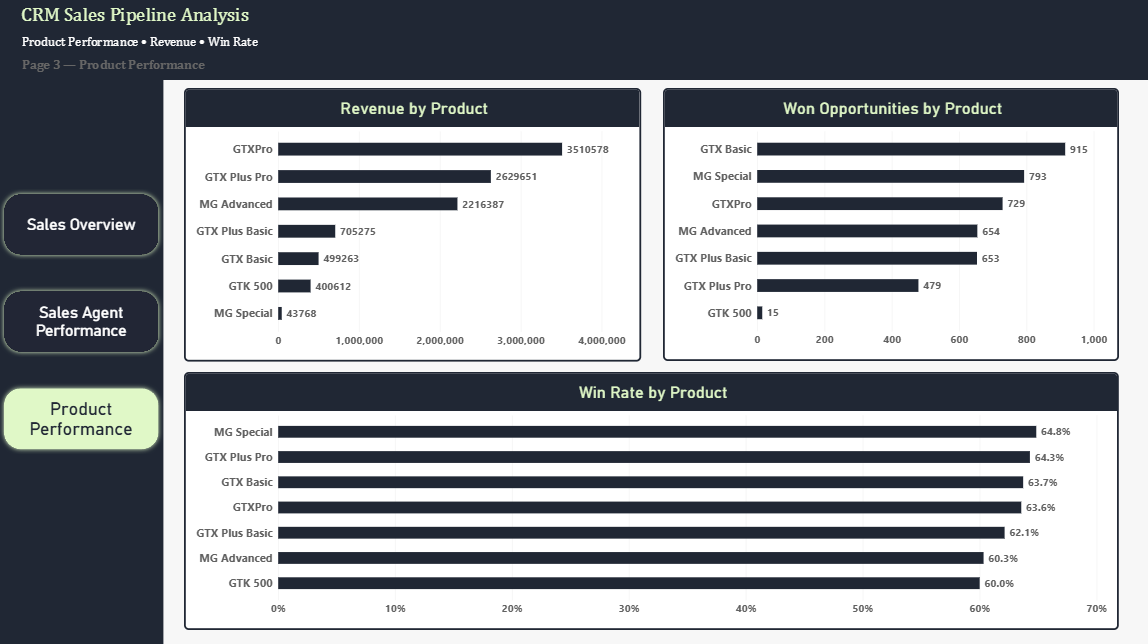

What the dashboard file says about the page in this screenshot:
{"tool":"powerbi","page":{"name":"Product Performance","canvas":[1920,1080],"ordinal":2},"visuals":[{"type":"shape","box":[0,0,1920,136.7],"z":0},{"type":"shape","box":[0,102,274,978],"z":1000},{"type":"clusteredBarChart","title":"Revenue by Product","fields":{"Category":["sales_pipeline.product"],"Y":["sales_pipeline.Total Revenue"]},"box":[308,149.8,762,456],"z":4000},{"type":"clusteredBarChart","title":"Won Opportunities by Product","fields":{"Category":["sales_pipeline.product"],"Y":["sales_pipeline.Won Opportunities"]},"box":[1106,150.2,760,455],"z":5000},{"type":"clusteredBarChart","title":"Win Rate by Product","fields":{"Category":["sales_pipeline.product"],"Y":["sales_pipeline.Percentage Of Won"]},"box":[308,624,1558,430],"z":6000},{"type":"pageNavigator","box":[0,318,274,444],"z":7000},{"type":"textbox","box":[20,8.9,412.8,41.1],"z":7001},{"type":"textbox","box":[37.5,60,508.3,38.3],"z":7002},{"type":"textbox","box":[38.6,98.6,508.3,38.3],"z":7003}]}

Visuals, with their boxes in screenshot pixels (x1, y1, x2, y2), scaled from the page's 1920x1080 canvas onto the 1148x644 screenshot:
shape: <box>0,0,1147,82</box>
shape: <box>0,61,164,643</box>
"Revenue by Product" clusteredBarChart: <box>184,89,640,361</box>
"Won Opportunities by Product" clusteredBarChart: <box>661,90,1116,361</box>
"Win Rate by Product" clusteredBarChart: <box>184,372,1116,628</box>
pageNavigator: <box>0,190,164,454</box>
textbox: <box>12,5,259,30</box>
textbox: <box>22,36,326,59</box>
textbox: <box>23,59,327,82</box>
